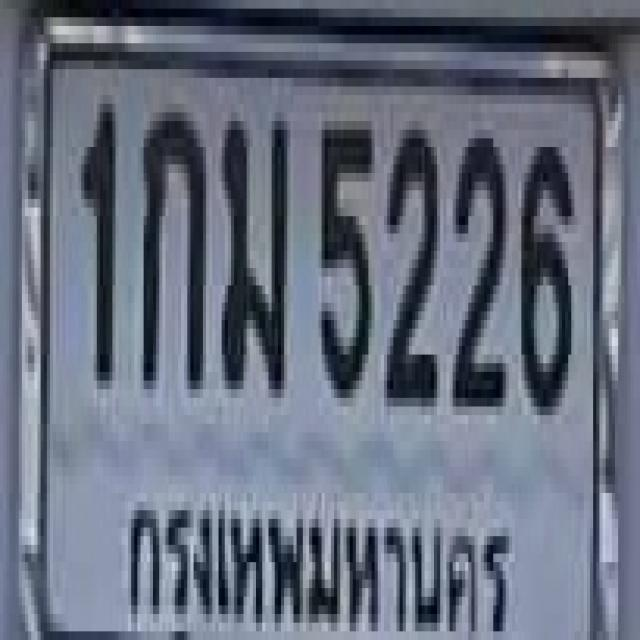-: (219, 108, 284, 385), (140, 104, 203, 380)
1: (78, 91, 112, 376)
2: (450, 130, 502, 398), (384, 121, 434, 398)
5: (318, 113, 372, 390)
6: (518, 138, 568, 406)
BKK: (112, 467, 522, 640)
